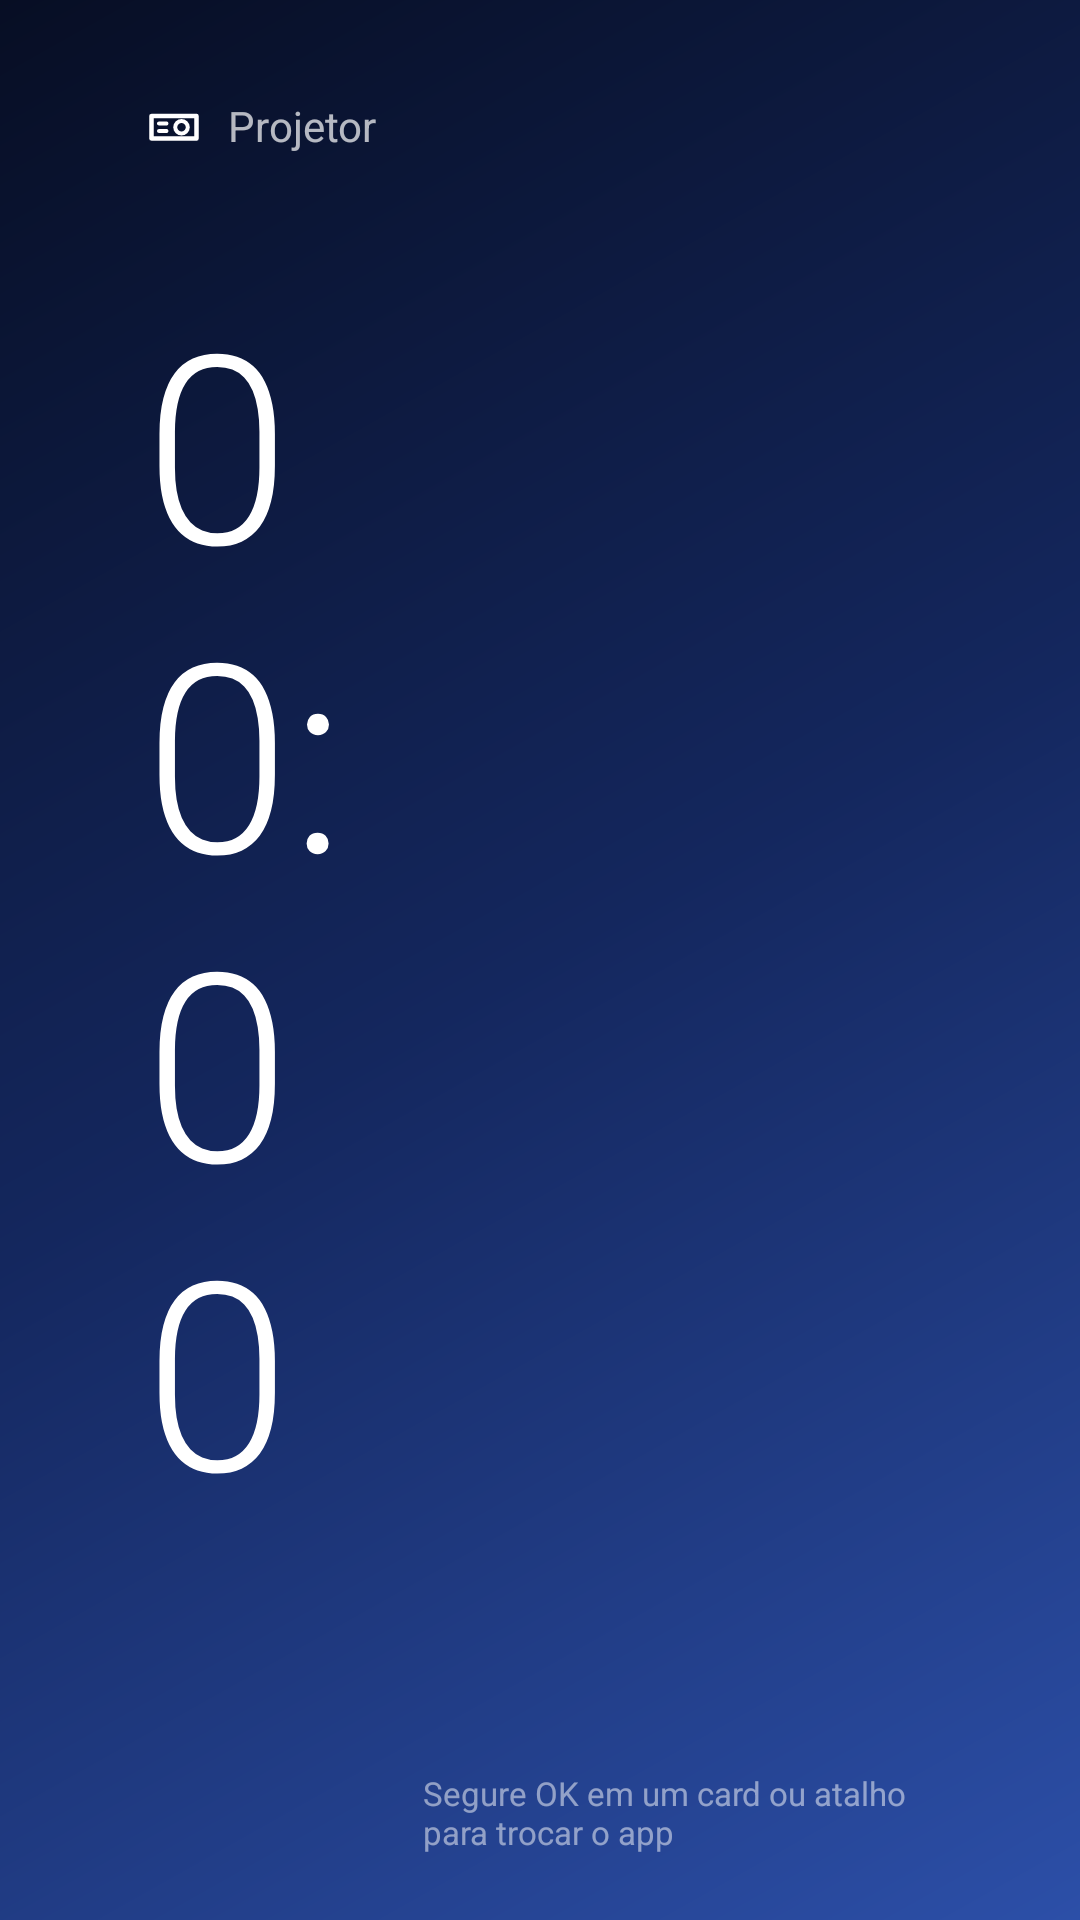

Locate icon controls on the screen. Image size 1080w x 1920h, boxes as (x1,y1,x2,y2).
projector: (149,113,199,141)
